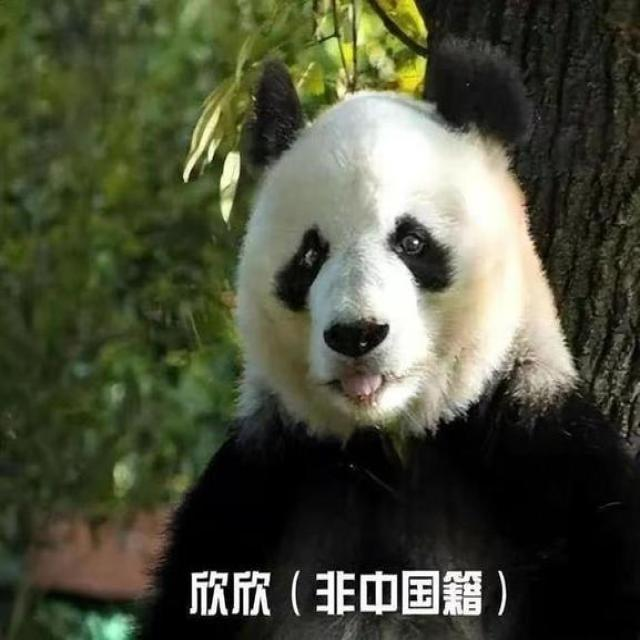panda: (176, 59, 628, 635)
